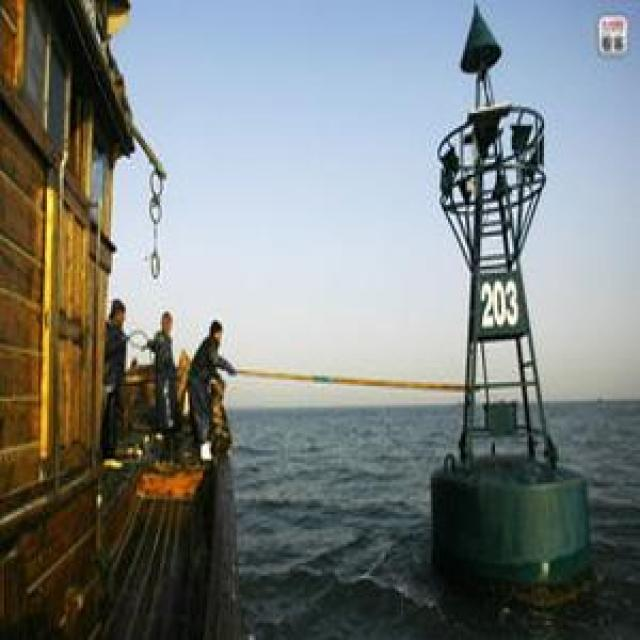buoy: (411, 0, 593, 597)
